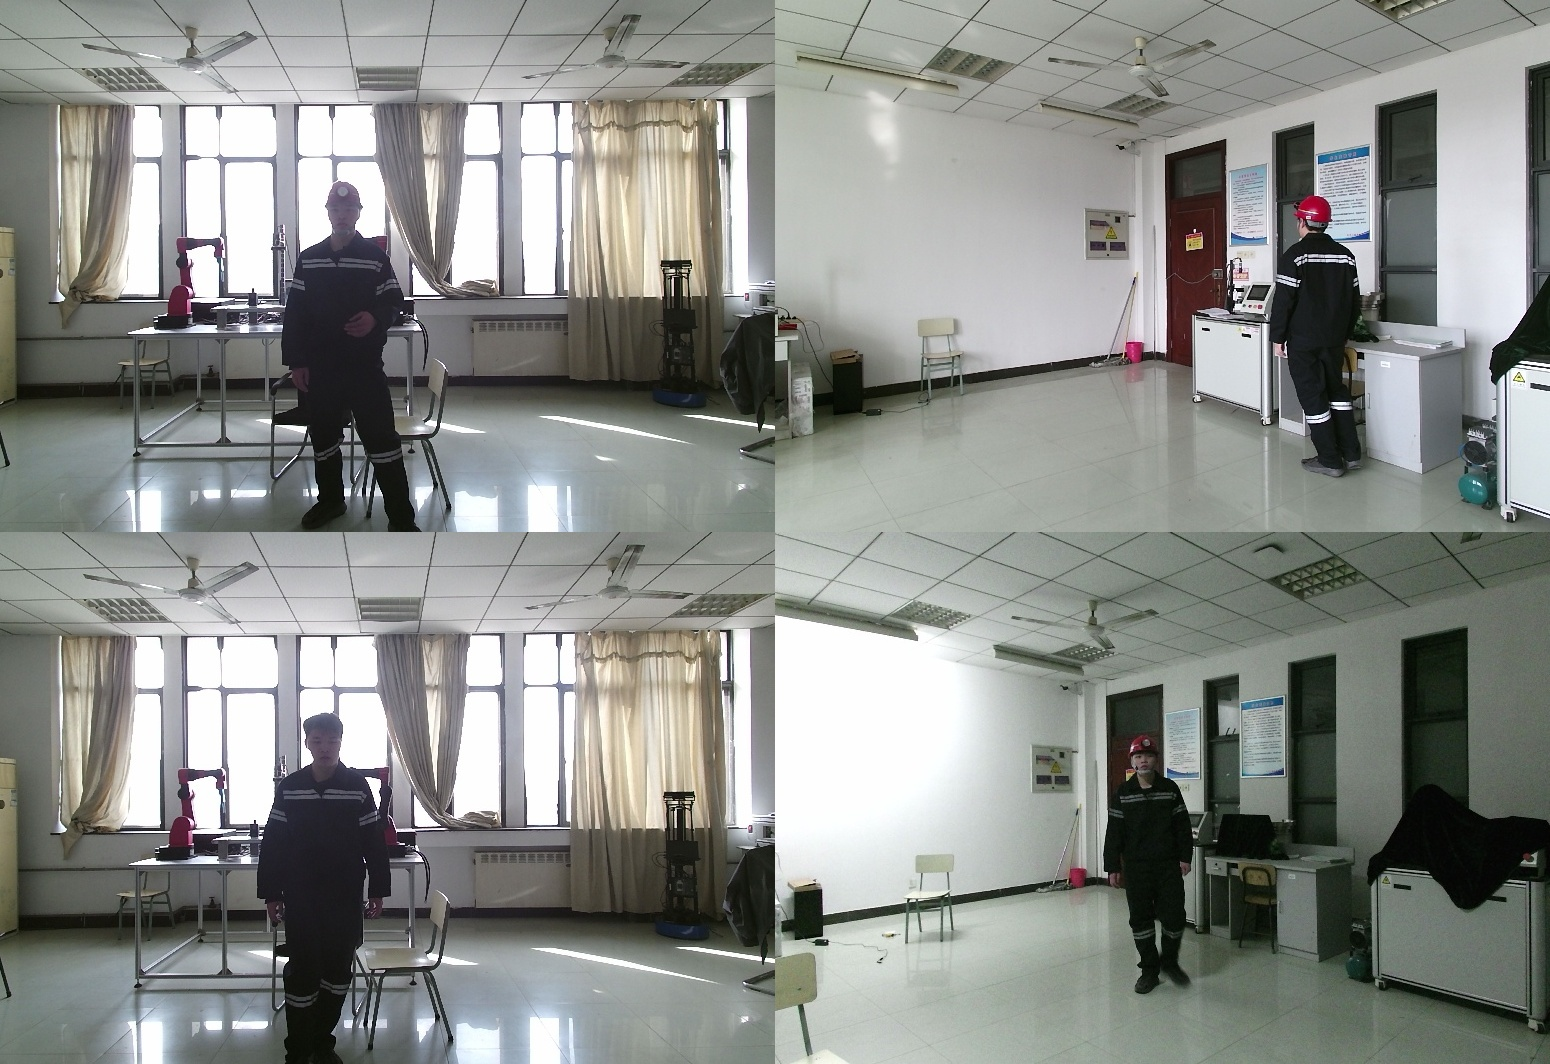person: (262, 712, 399, 1064), (283, 182, 417, 532), (1273, 194, 1371, 474), (1105, 737, 1204, 993)
